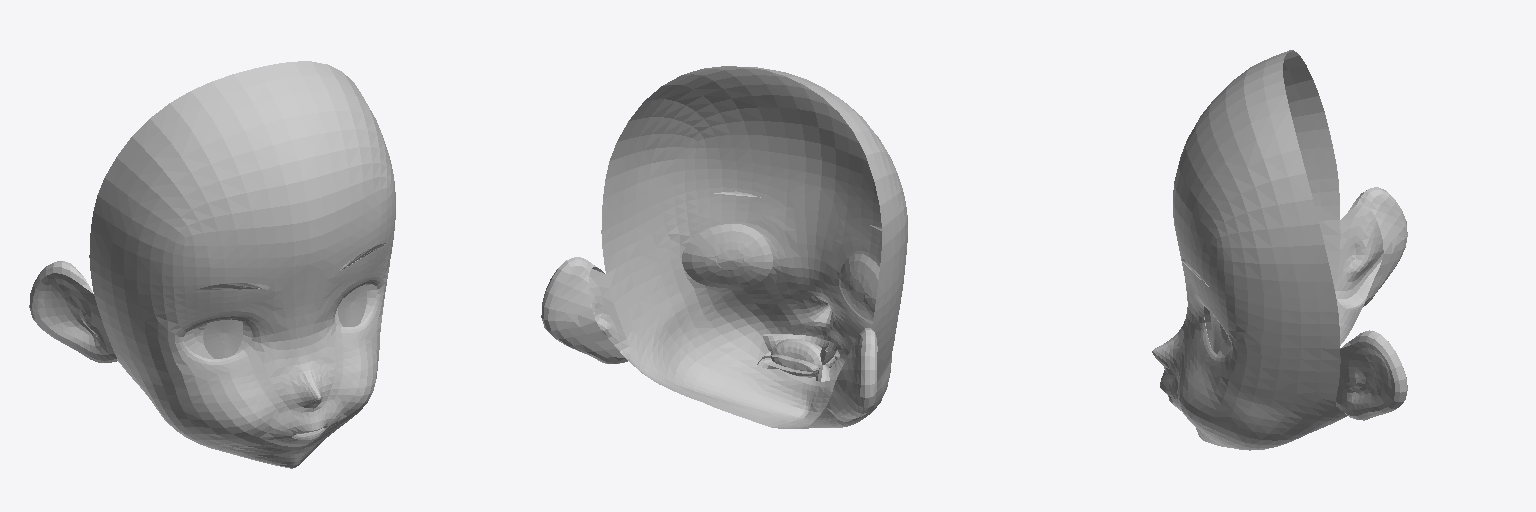
The model's file is cheekPuff.obj.
3 views of the same model, side by side, from view 1: azimuth 30°, elevation 25°; view 2: azimuth 150°, elevation 25°; view 3: azimuth 270°, elevation 25° (orthographic).
Visible parts, largest first — view 1: Face; view 2: Face; view 3: Face.
Part boxes in pixels (left/top/right/bottom): Face: left=29, top=61, right=395, bottom=468; Face: left=541, top=66, right=907, bottom=428; Face: left=1152, top=50, right=1407, bottom=450.
Bounding box in the file's own units: 0.2176 × 0.2333 × 0.1449.